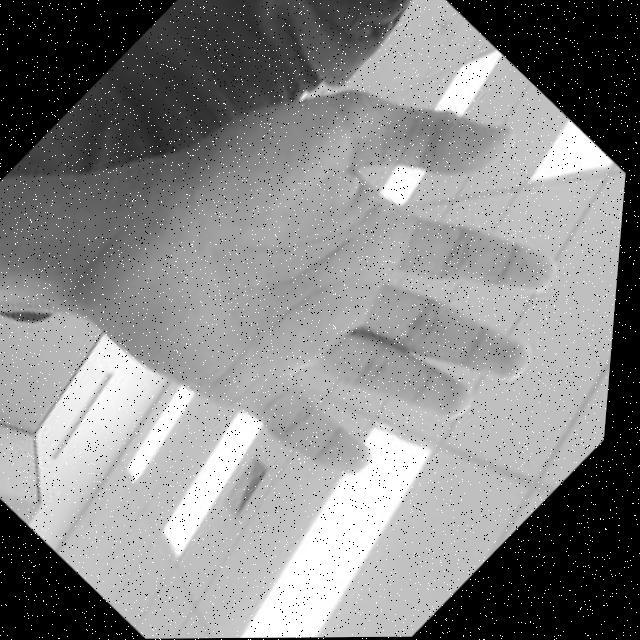no-gloves: (32, 0, 640, 567)
